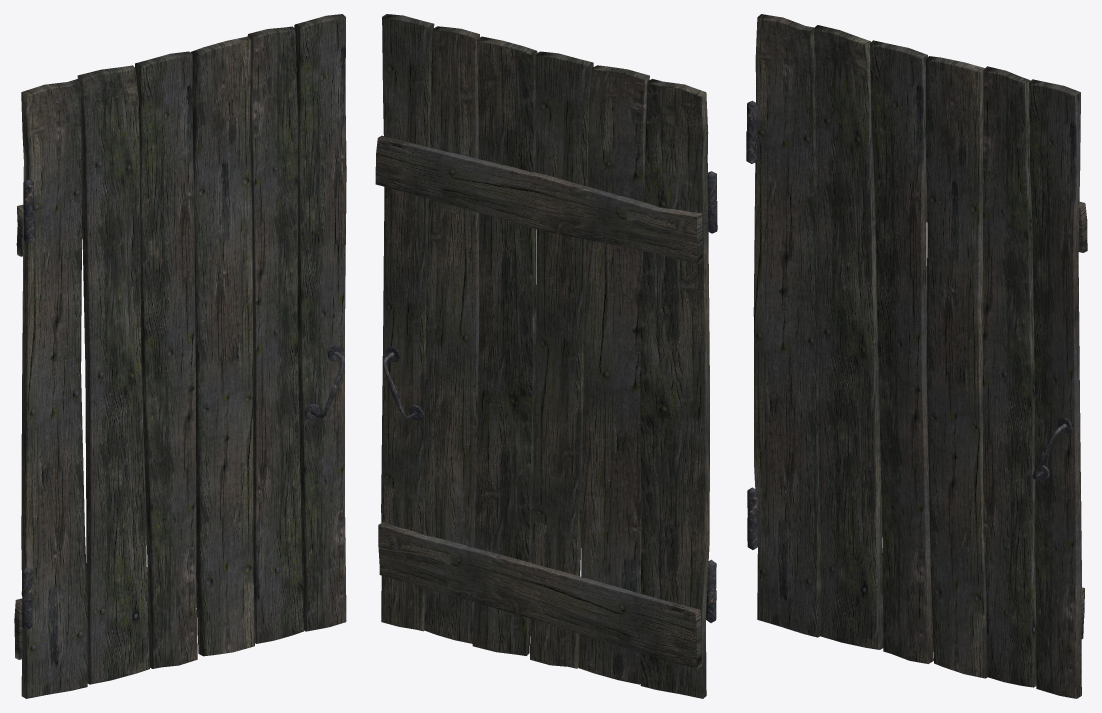
The model's file is Door01.fbx.
The picture shows the model from 3 angles, left to right: view 1: azimuth 30°, elevation 25°; view 2: azimuth 150°, elevation 25°; view 3: azimuth 330°, elevation 25°; orthographic projection.
Visible parts, largest first — view 1: Door01, door_hinges01, door_knob01; view 2: Door01, door_hinges01, door_knob02; view 3: Door01, door_hinges01, door_knob01.
Part boxes in pixels (x1,y1,x2,y2): Door01: (14,14,346,698); door_hinges01: (21,179,34,629); door_knob01: (304,345,344,420); Door01: (375,14,709,698); door_hinges01: (706,171,717,622); door_knob02: (383,346,423,421); Door01: (753,14,1087,698); door_hinges01: (746,100,757,549); door_knob01: (1032,417,1072,480).
Bounding box in the file's own units: 131 × 234 × 20.3.
